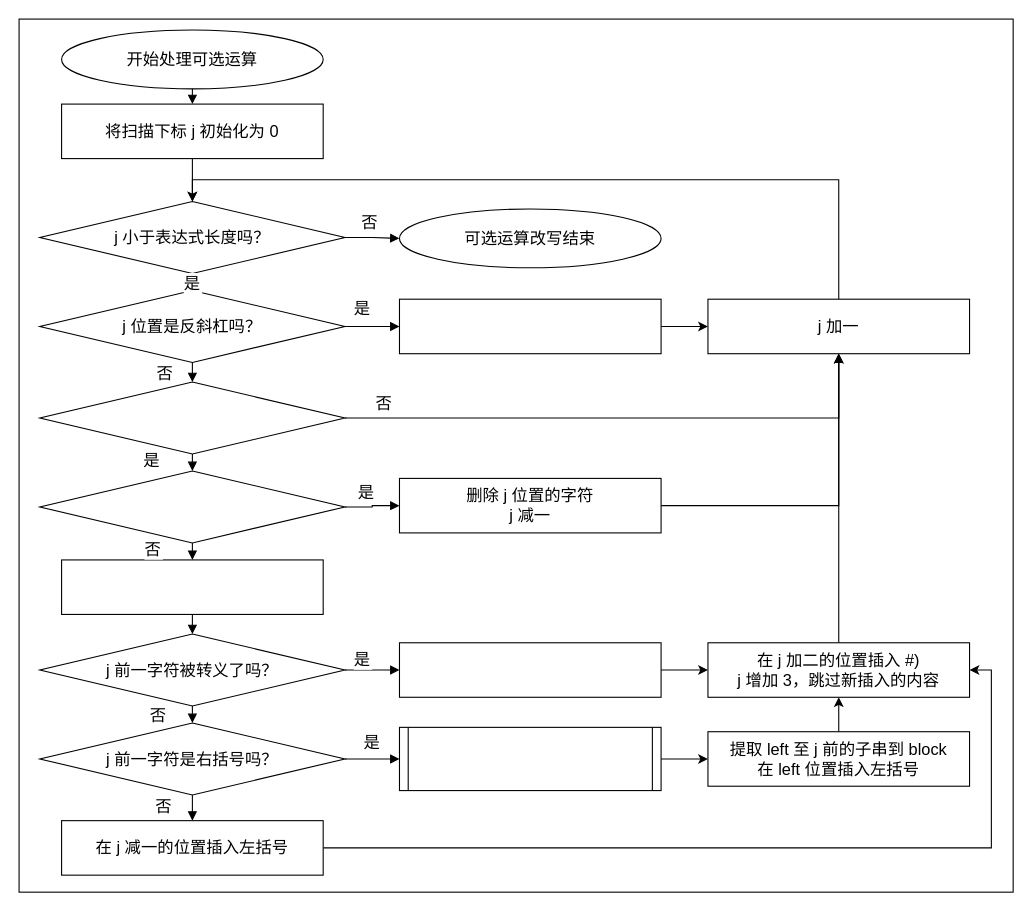
The diagram is 1032 pixels wide and 911 high, and some of its shapes have lost their labels. Here are the shapes that lost their labels. From the top down, the centre of each, then its label:
At pixel 529 326: "j 加一，跳过被转义字符".
At pixel 192 417: "j 位置是问号吗？".
At pixel 192 506: "j 等于 0 吗？".
At pixel 191 586: "将 j 位置的问号改为竖线".
At pixel 529 669: "提取前两个字符到 block 在 j 减二的位置插入左括号".
At pixel 529 758: "调用 findLeftBracket 取得配对左括号位置 left".
